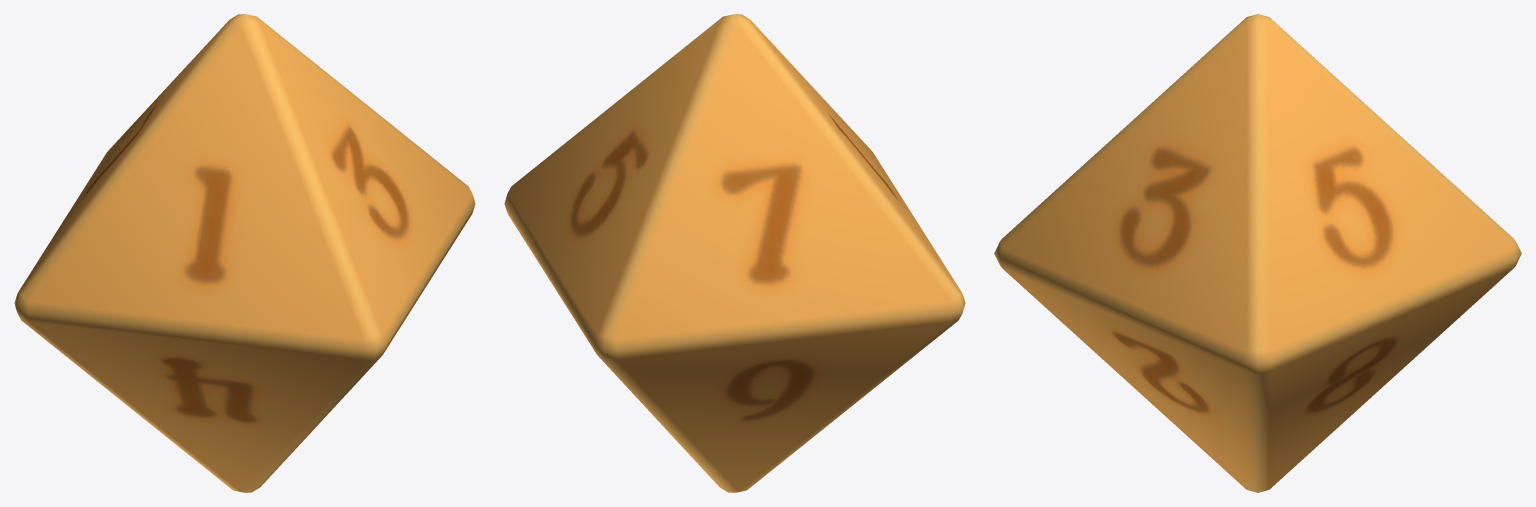
The model's file is D8_yellow.obj.
The picture shows the model from 3 angles, left to right: view 1: azimuth 30°, elevation 25°; view 2: azimuth 150°, elevation 25°; view 3: azimuth 270°, elevation 25°; orthographic projection.
Visible parts, largest first — view 1: D8_yellow; view 2: D8_yellow; view 3: D8_yellow.
Boxes of the visible parts, <box> form: D8_yellow: <box>14,14,475,492</box>; D8_yellow: <box>504,14,965,492</box>; D8_yellow: <box>994,14,1521,492</box>.
Bounding box in the file's own units: 1 × 1 × 1.
Materials: 1 (1 with a texture image).
